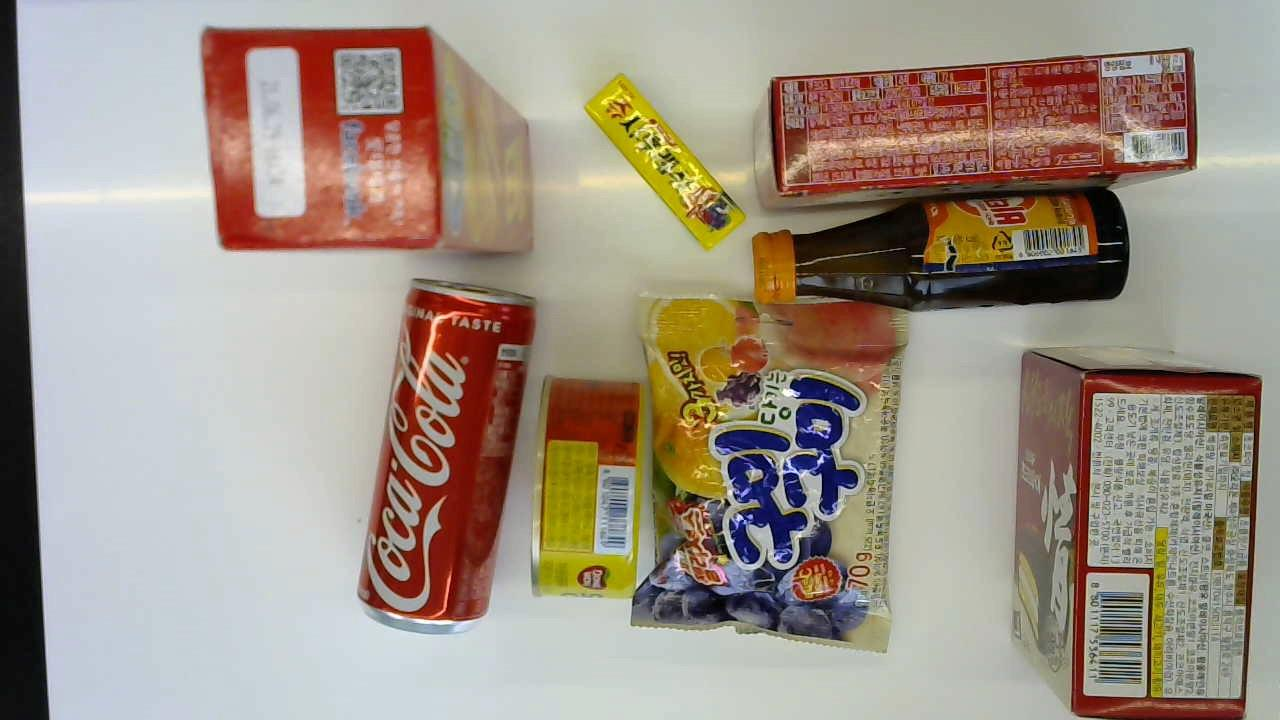chocopie: (1023, 343, 1264, 720)
coke: (356, 275, 532, 637)
couque_white: (756, 44, 1196, 197)
gumi_gumi: (635, 292, 905, 656)
juicyfresh: (583, 73, 741, 250)
tuna: (528, 373, 640, 601)
vita500: (751, 191, 1135, 315)
zec: (198, 25, 529, 258)
